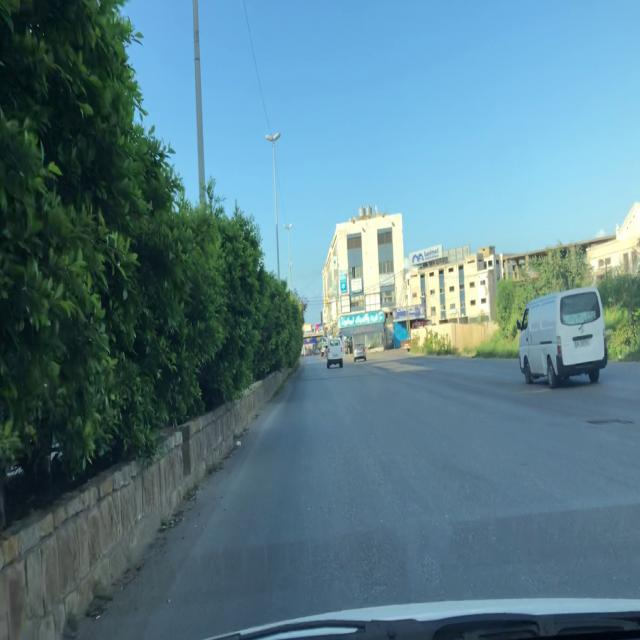Pothole: (584, 412, 636, 430)
